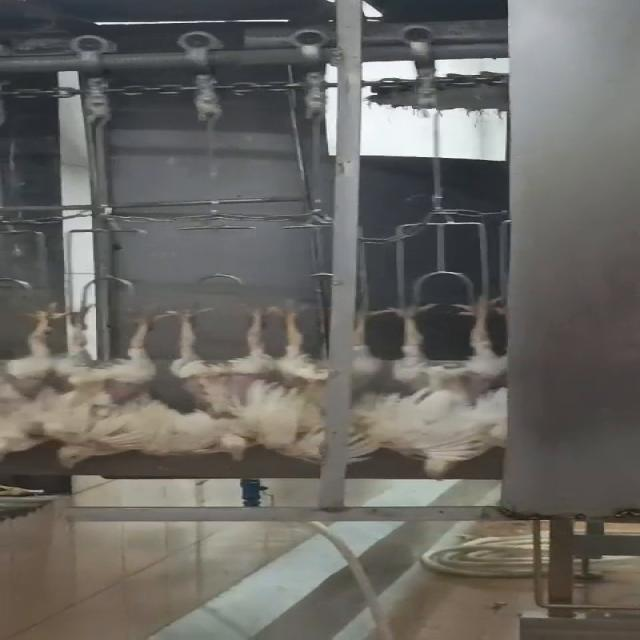chicken: (372, 290, 504, 484), (46, 302, 176, 474), (165, 296, 291, 466), (0, 307, 75, 460), (281, 302, 331, 466)
